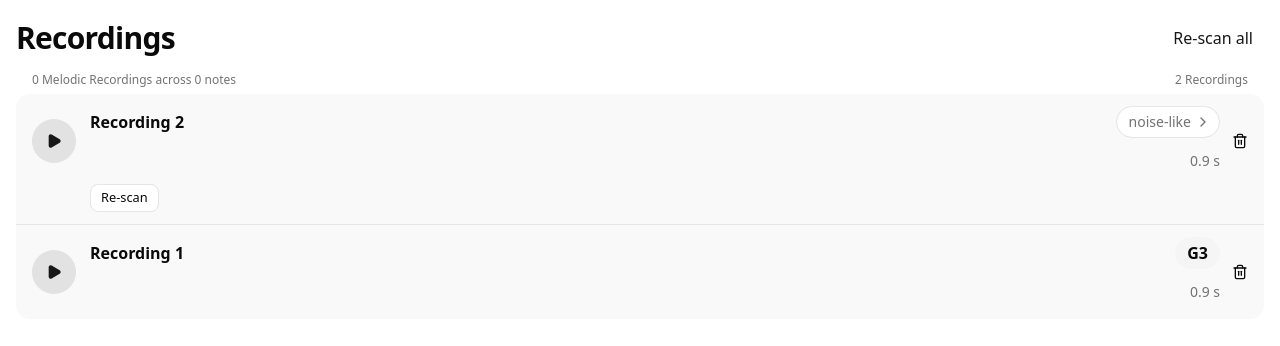
Test: Re-scan on the Recordings tab › runs Re-scan all, then says what changed
This screenshot has width=1280, height=346.
Click the button "Re-scan all" at {"x": 1213, "y": 38}, box [1162,16,1264,60]
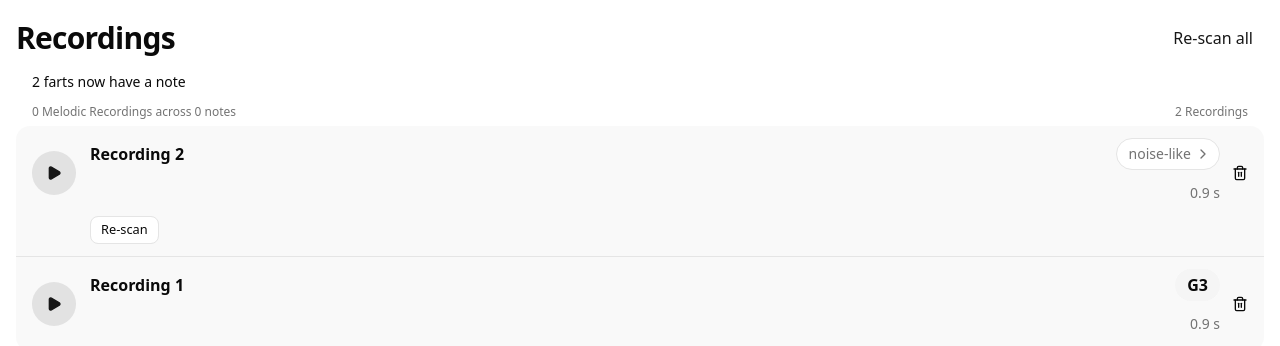
Expected: the text "2 farts now have a note" is shown, [32,72,186,91]
